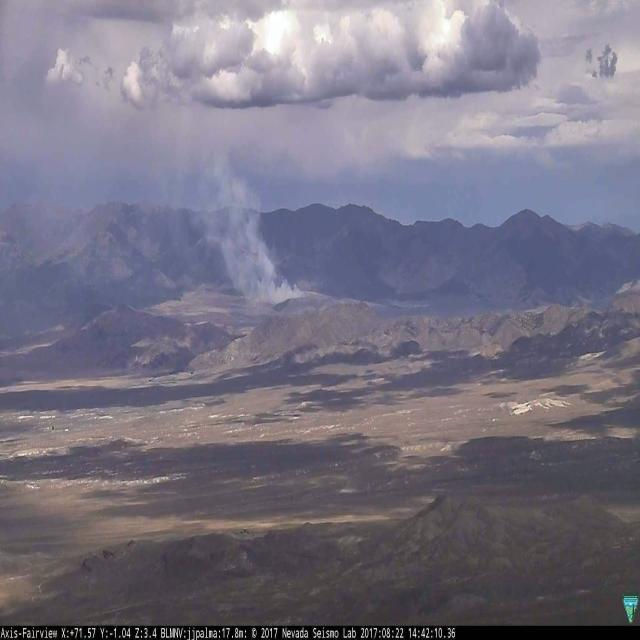smoke: (198, 154, 308, 302)
